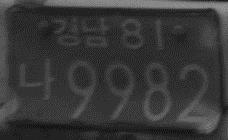1: (151, 16, 167, 50)
2: (175, 61, 214, 126)
8: (141, 60, 173, 125), (118, 16, 147, 51)
9: (101, 59, 137, 123), (65, 58, 99, 120)
경남_O: (48, 15, 111, 48)
나: (16, 55, 57, 102)
